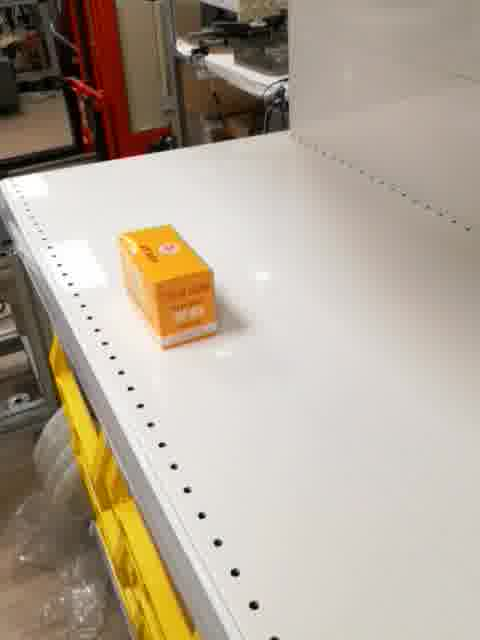jasminetea: (117, 220, 221, 350)
